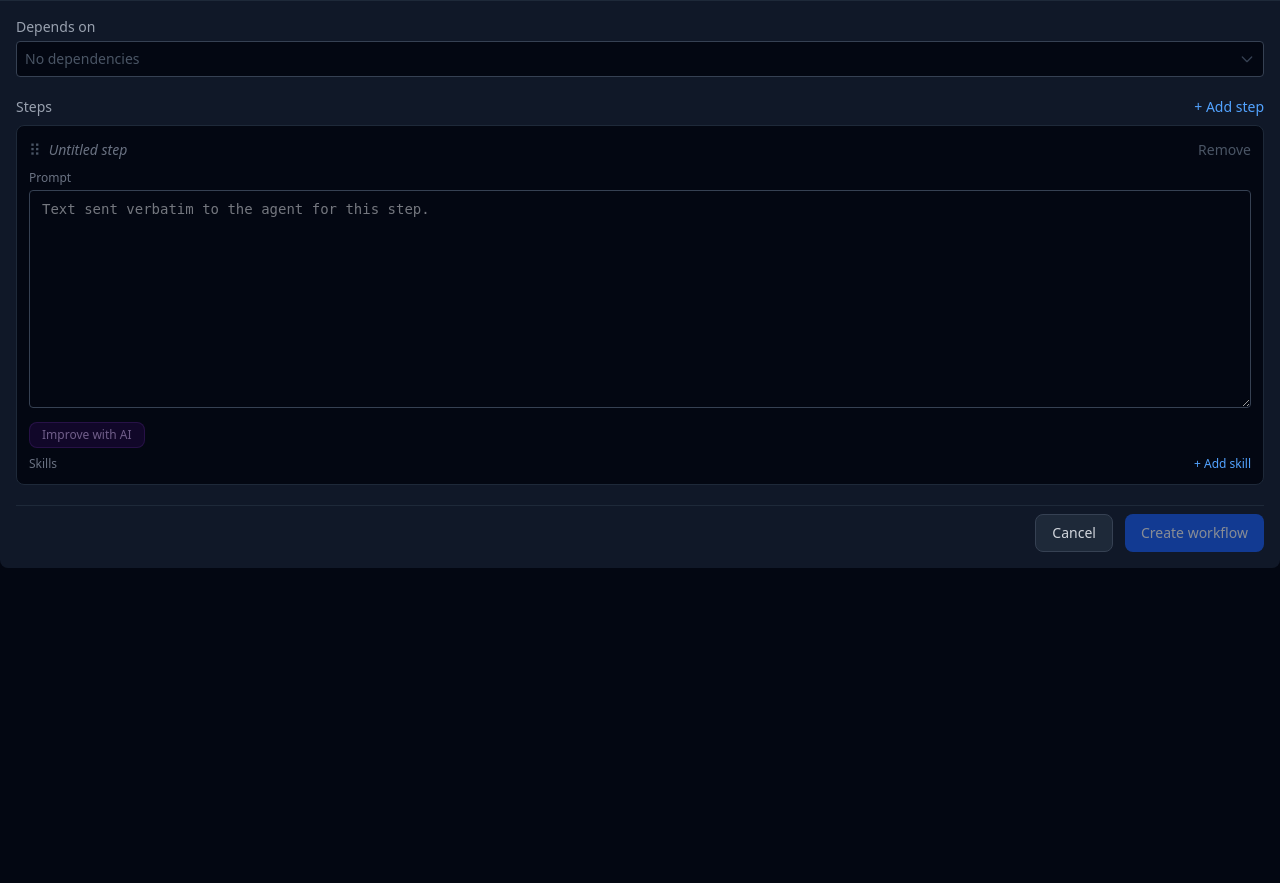
Scenario: FlowEditor — steps repeater › adds and removes step rows; the last remaining step cannot be removed
Check: the number of buttons "Remove" is 1, box [1198,140,1251,160]
Check: the button "Remove" is disabled, box [1198,140,1251,160]
Click the button "+ Add step". click: (1229,107)
box: [1194,97,1264,117]
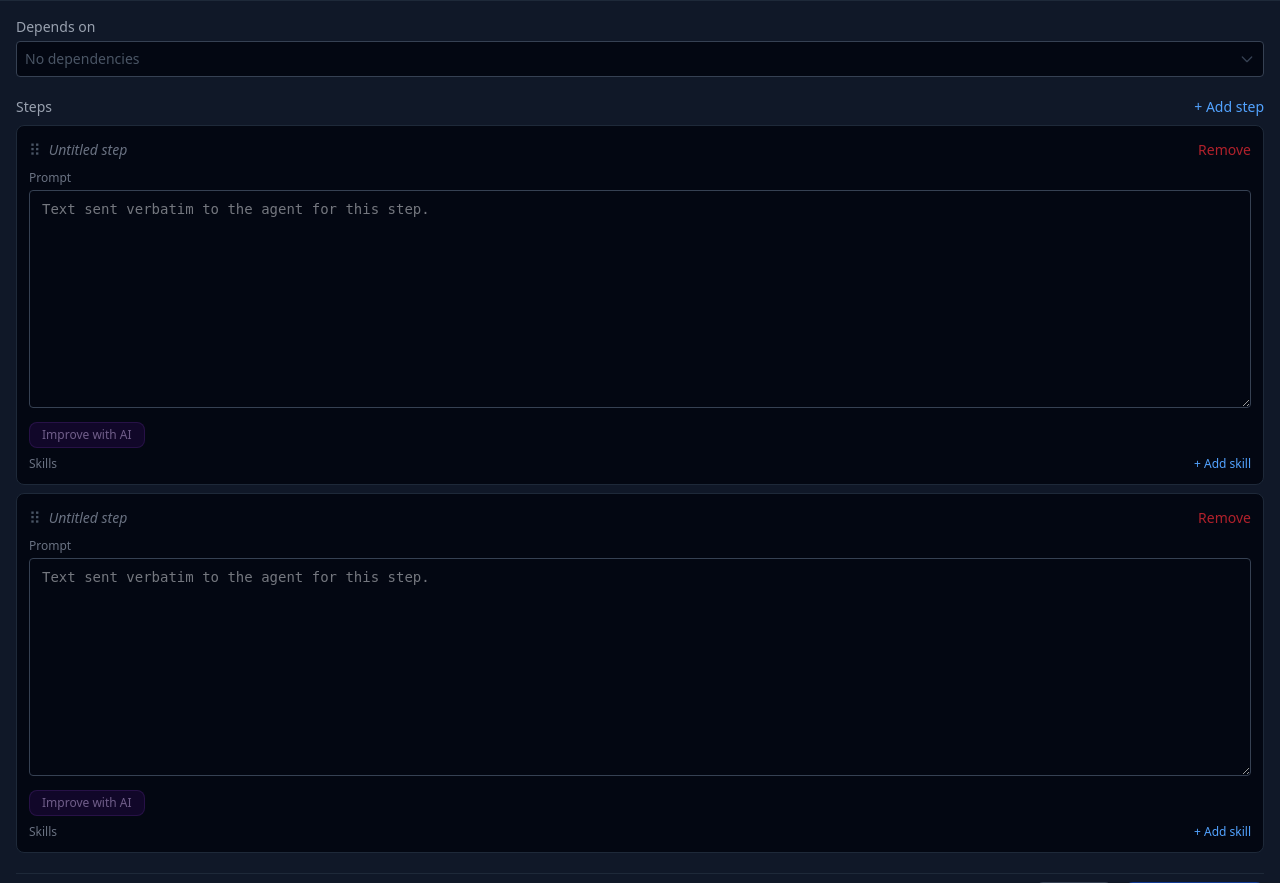
Check: the number of buttons "Remove" is 2
Check: the 1st button "Remove" is enabled
Click the 1st button "Remove". click: (1225,150)
box: [1198,140,1251,160]
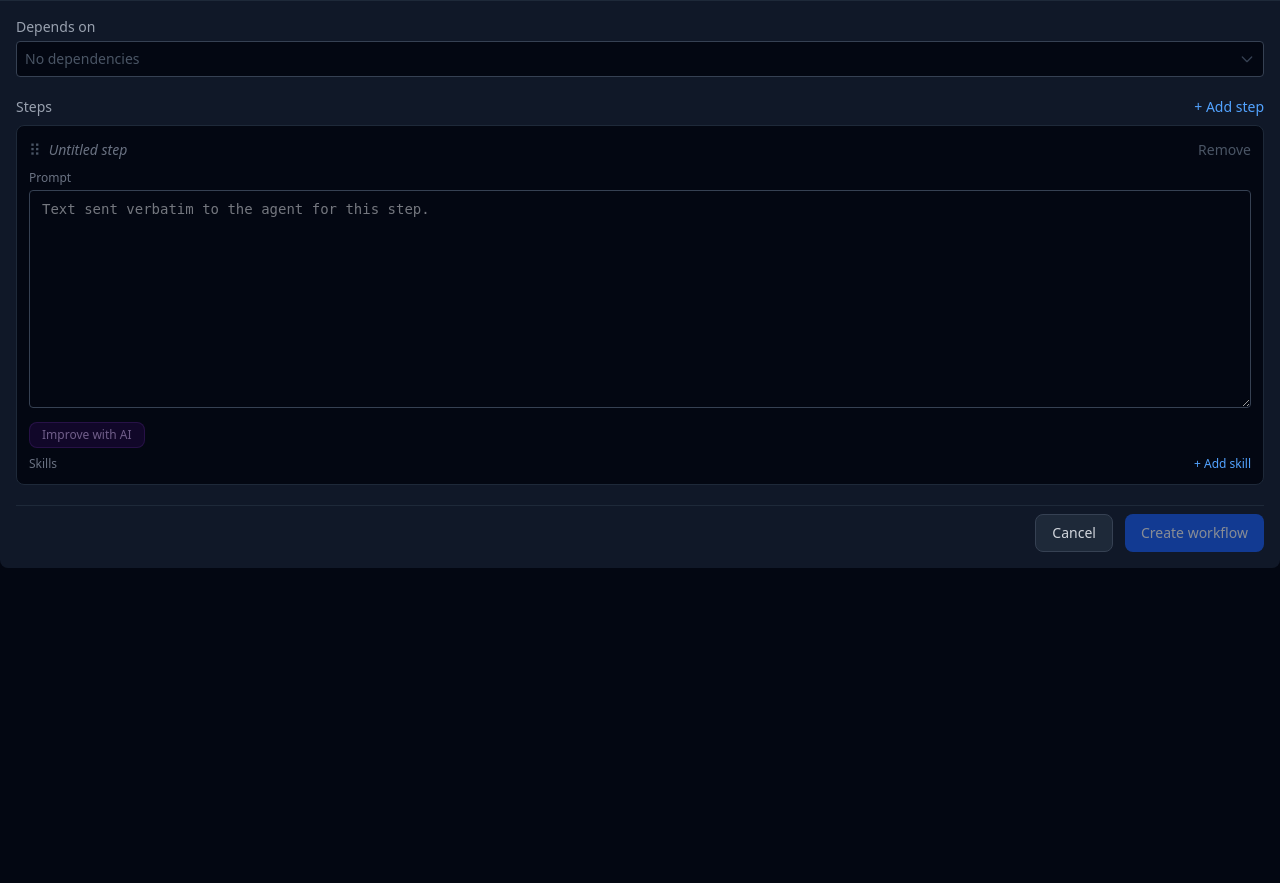
Check: the number of buttons "Remove" is 1, box [1198,140,1251,160]
